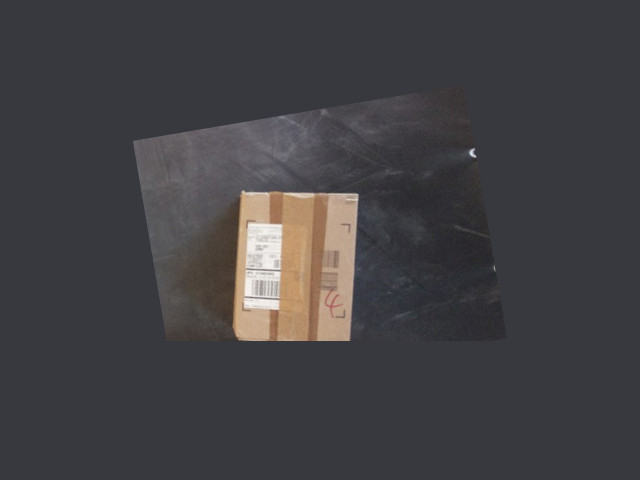cardboard: (233, 190, 359, 340)
